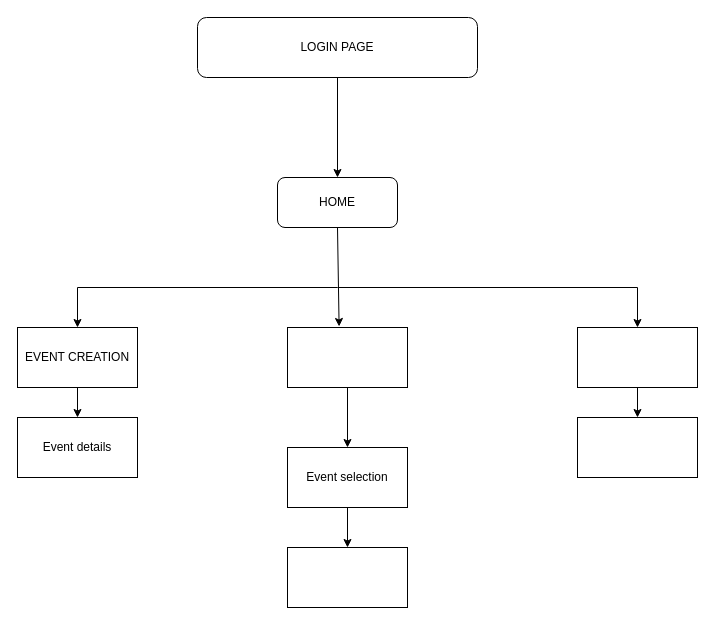
Image size: 715x625. Some labels were removed from this diagram. The shapes that lost their labels are listed below. From the top down, each one's box as (x1, y1, x2, y2) in pixels, then its label:
(286, 326, 408, 388): ATTENDEE REGISTRATION
(576, 326, 698, 388): FEEDBACK
(286, 546, 408, 608): Registration form
